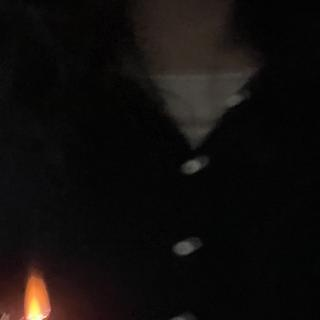fire: (23, 266, 53, 320)
